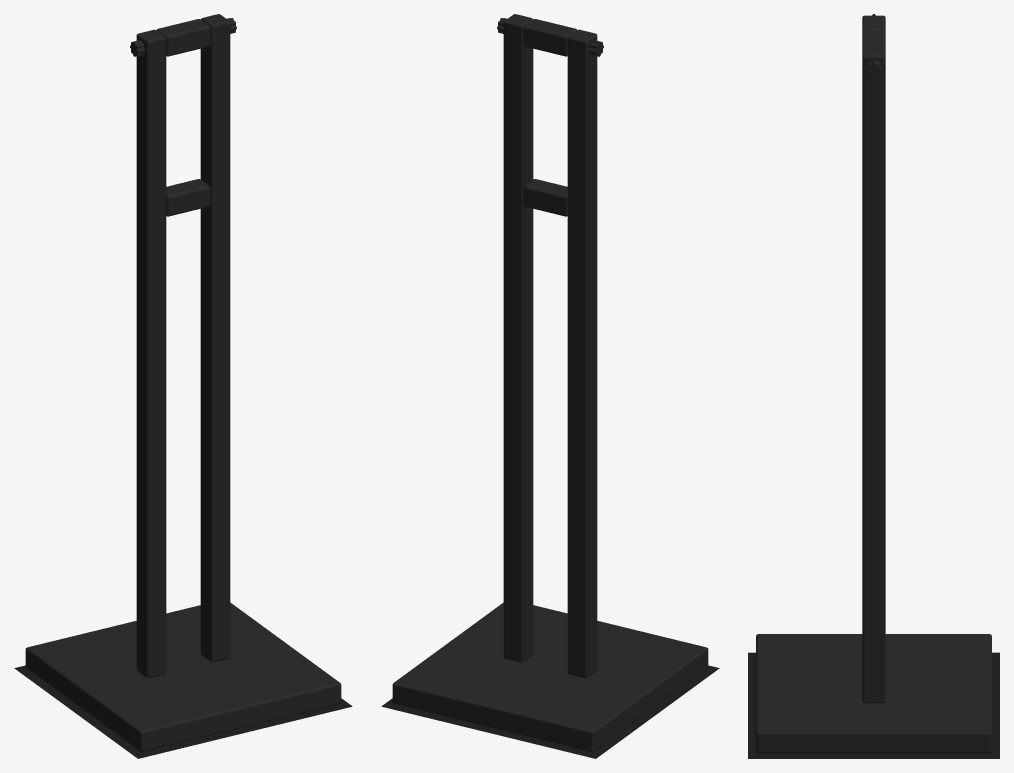
File: bracket_2.glb
3 renders of one model, left to right at view 1: azimuth 30°, elevation 25°; view 2: azimuth 150°, elevation 25°; view 3: azimuth 270°, elevation 25°, orthographic.
Visible parts, largest first — view 1: Cube.006, dizuo, dizuo.001, Cube.008, Cube.007; view 2: Cube.006, dizuo, dizuo.001, Cube.008, Cube.007; view 3: dizuo, Cube.006, dizuo.001, Cube.008.
Part boxes in pixels (x1=…): Cube.006: x1=136, y1=14, x2=230, y2=678; dizuo: x1=25, y1=602, x2=341, y2=751; dizuo.001: x1=14, y1=665, x2=352, y2=758; Cube.008: x1=156, y1=19, x2=210, y2=56; Cube.007: x1=166, y1=179, x2=210, y2=216; Cube.006: x1=503, y1=14, x2=597, y2=678; dizuo: x1=392, y1=602, x2=708, y2=751; dizuo.001: x1=381, y1=665, x2=719, y2=758; Cube.008: x1=523, y1=19, x2=577, y2=56; Cube.007: x1=523, y1=179, x2=567, y2=216; dizuo: x1=756, y1=634, x2=991, y2=753; Cube.006: x1=862, y1=15, x2=885, y2=703; dizuo.001: x1=748, y1=652, x2=999, y2=758; Cube.008: x1=862, y1=25, x2=885, y2=48.
Bounding box in the file's own units: 0.5337 × 1.57 × 0.5337.
3 materials, 1 textured.
